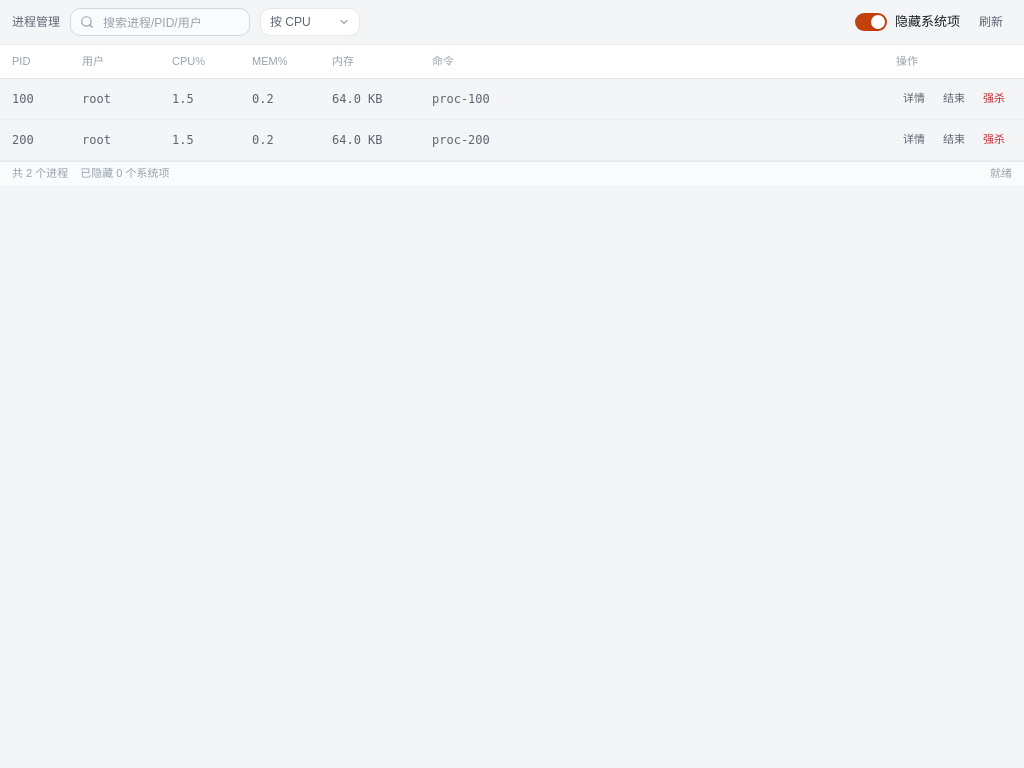
Test: ProcessTab 进程详情 › 展示 ps 字段与完整命令行
Click the button "详情" in the row of "proc-100": (914, 98) [896,86,932,110]
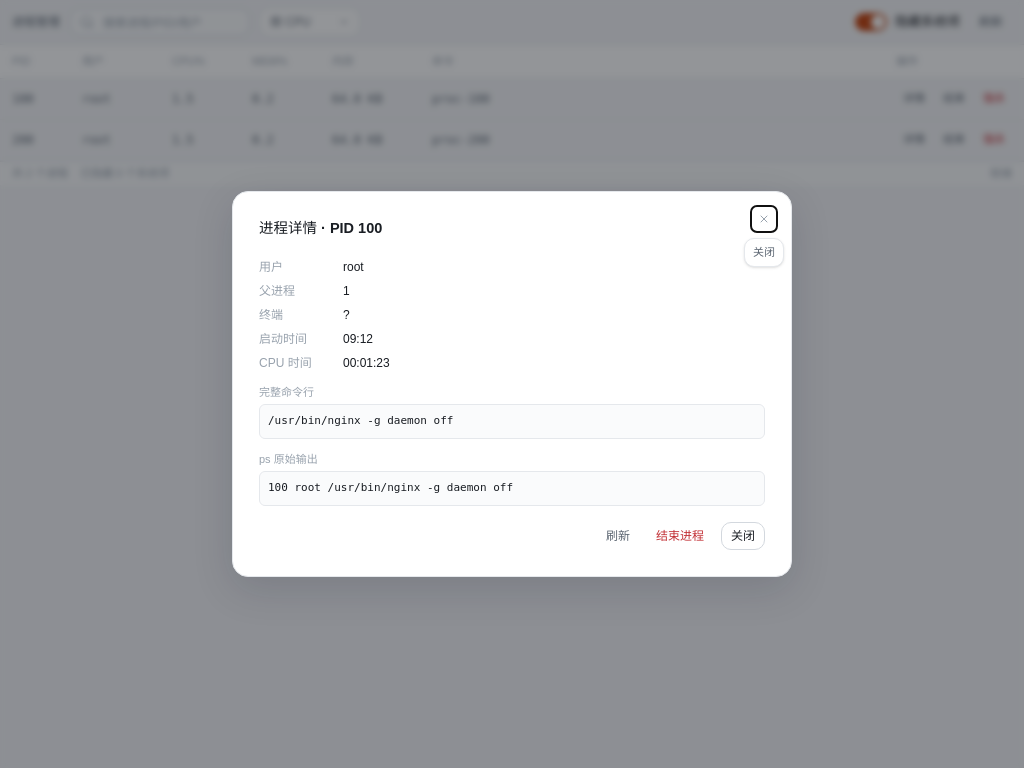
Result: the text "进程详情 · PID 100" is shown at [259,220,382,236]
Result: the text "父进程" is shown at [259,284,295,298]
Result: the text "00:01:23" is shown at [343,356,390,370]
